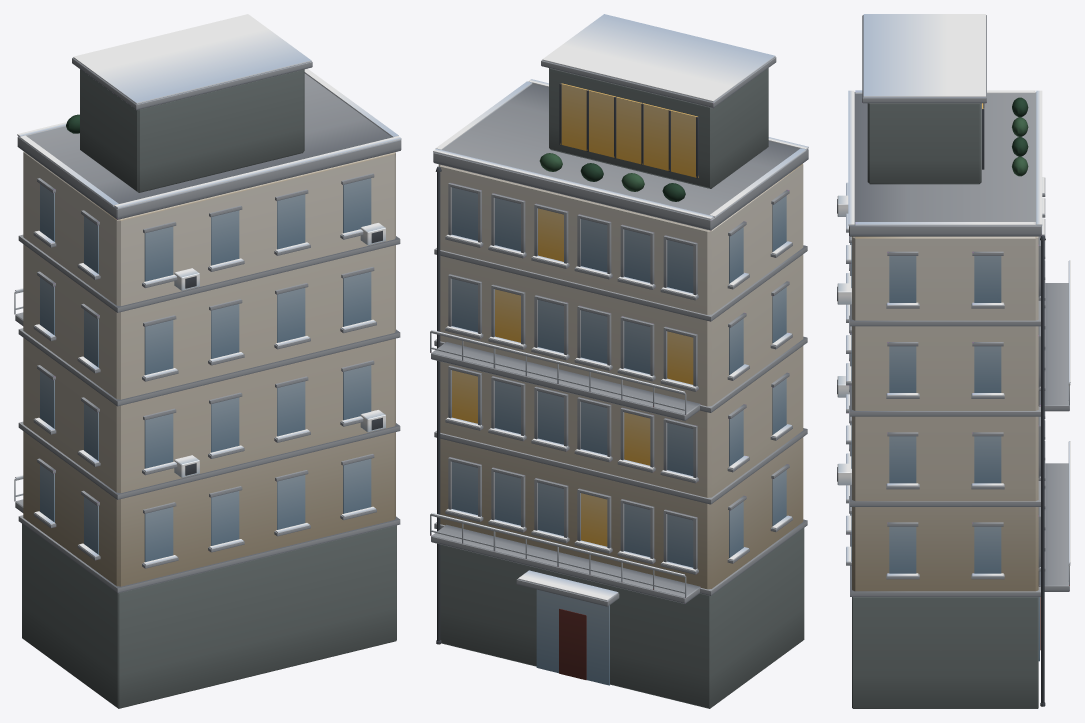
The model's file is ck_midrise_render_10.fbx.
3 views of the same model, side by side, from view 1: azimuth 30°, elevation 25°; view 2: azimuth 150°, elevation 25°; view 3: azimuth 270°, elevation 25° (orthographic). The views are drawn at different scales.
Parts seen in each view (by area): view 1: ck_midrise_render_10; view 2: ck_midrise_render_10; view 3: ck_midrise_render_10.
Boxes of the visible parts, <box> form: ck_midrise_render_10: <box>14,14,401,708</box>; ck_midrise_render_10: <box>430,14,808,708</box>; ck_midrise_render_10: <box>837,14,1070,708</box>.
Bounding box in the file's own units: 3058 × 6000 × 2210.
